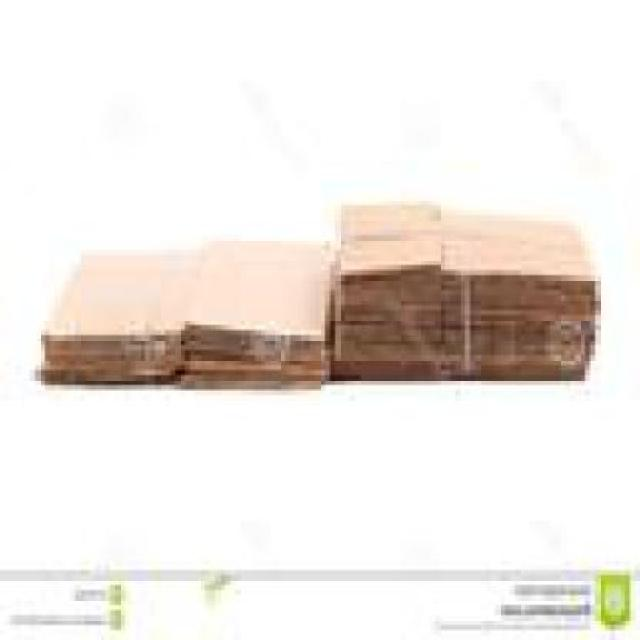CARDBOARD: (335, 200, 600, 380), (46, 235, 334, 380)
